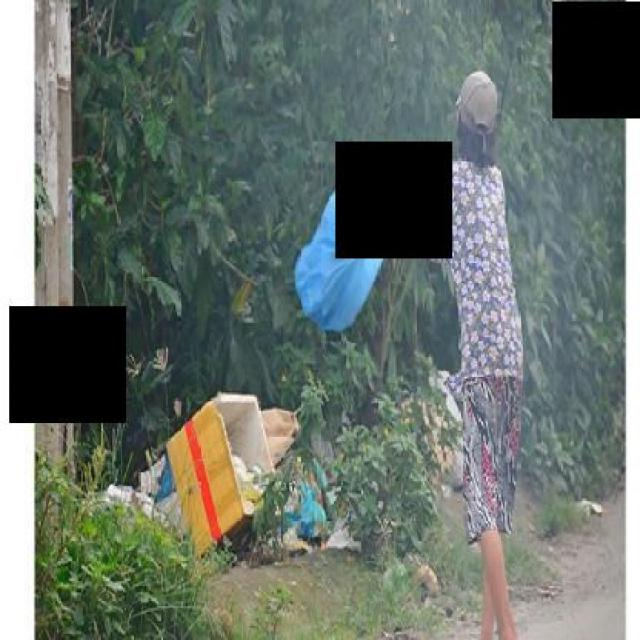plastic bag: (89, 392, 371, 578), (289, 162, 385, 338)
